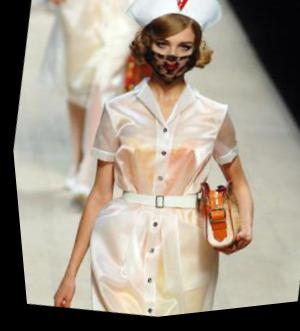WRONG: (142, 27, 203, 93)
